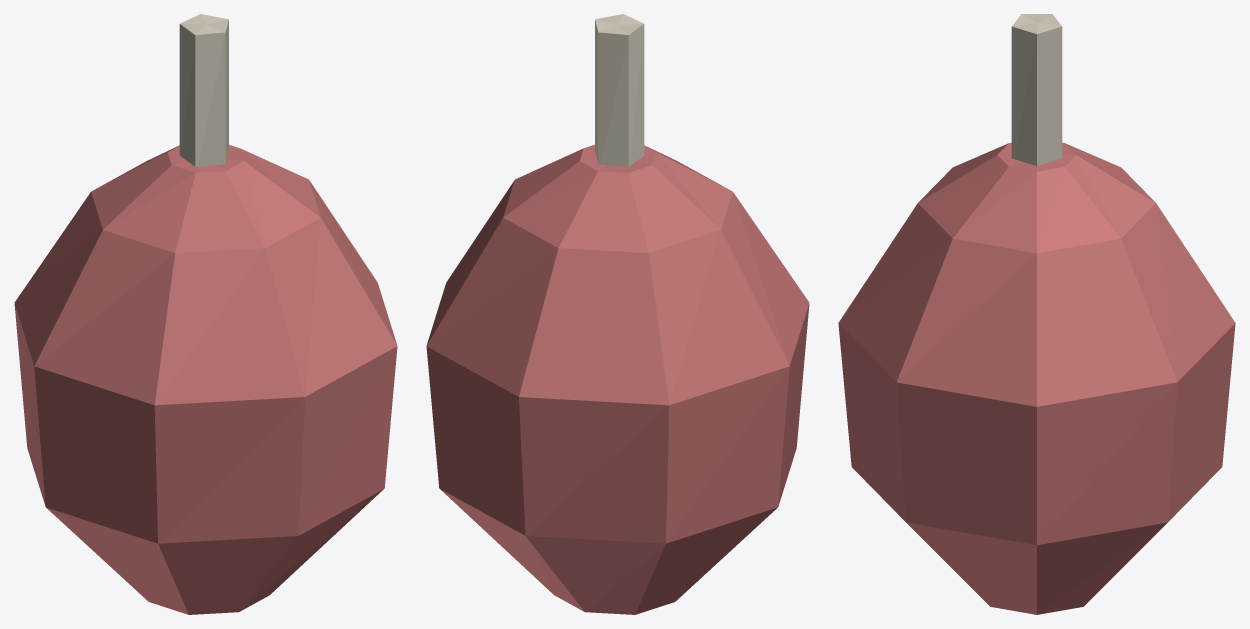
Rendered from ham.glb.
The picture shows the model from 3 angles, left to right: view 1: azimuth 30°, elevation 25°; view 2: azimuth 150°, elevation 25°; view 3: azimuth 270°, elevation 25°; orthographic projection.
Parts seen in each view (by area): view 1: ham; view 2: ham; view 3: ham.
Part boxes in pixels (x1,y1,x2,y2): ham: [14, 14, 397, 614]; ham: [426, 14, 809, 614]; ham: [838, 14, 1235, 614].
Bounding box in the file's own units: 0.3 × 0.49 × 0.3.
